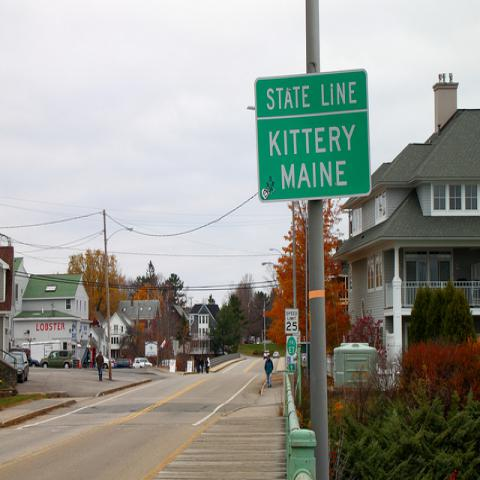car: (4, 352, 30, 384), (40, 350, 73, 368), (132, 357, 153, 369), (21, 349, 33, 366), (115, 359, 132, 367), (104, 356, 114, 369), (263, 350, 270, 360), (273, 352, 280, 359)
